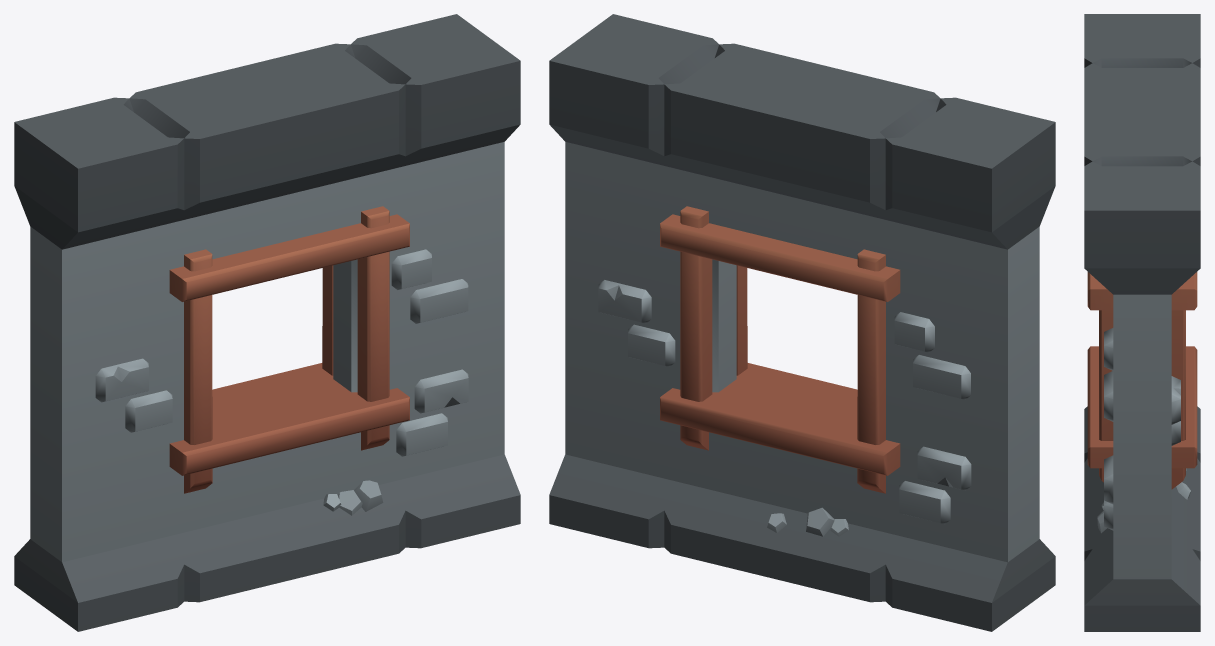
Rendered from wall_window_open.glb.
3 views of the same model, side by side, from view 1: azimuth 30°, elevation 25°; view 2: azimuth 150°, elevation 25°; view 3: azimuth 270°, elevation 25° (orthographic). The views are drawn at different scales.
Visible parts, largest first — view 1: wall_window_open; view 2: wall_window_open; view 3: wall_window_open.
Boxes of the visible parts, <box> form: wall_window_open: <box>14,14,520,631</box>; wall_window_open: <box>549,14,1055,631</box>; wall_window_open: <box>1084,14,1200,631</box>.
Size of the model in its own units: 4 by 4 by 1.
Materials: 1 (1 with a texture image).
